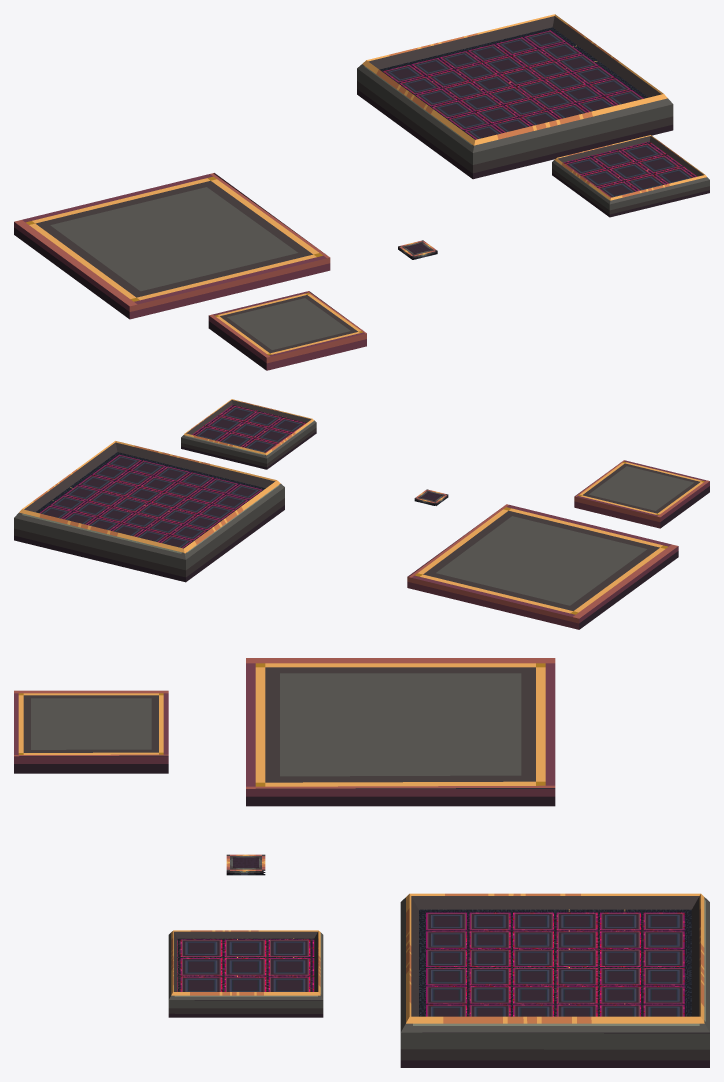
The model's file is musaic_tiles_model.gltf.
3 renders of one model, top to bottom at view 1: azimuth 30°, elevation 25°; view 2: azimuth 150°, elevation 25°; view 3: azimuth 270°, elevation 25°, orthographic. The views are drawn at different scales.
Parts seen in each view (by area): view 1: MESH_container_tile_2x2, MESH_normal_tile_2x2, MESH_container_tile_1x1, MESH_normal_tile_1x1; view 2: MESH_container_tile_2x2, MESH_normal_tile_2x2, MESH_container_tile_1x1, MESH_normal_tile_1x1, MESH_atom_tile; view 3: MESH_container_tile_2x2, MESH_normal_tile_2x2, MESH_container_tile_1x1, MESH_normal_tile_1x1, MESH_atom_tile.
Boxes of the visible parts, bbox=[...] form: MESH_container_tile_2x2: bbox=[357, 14, 673, 179]; MESH_normal_tile_2x2: bbox=[14, 173, 330, 319]; MESH_container_tile_1x1: bbox=[552, 135, 709, 217]; MESH_normal_tile_1x1: bbox=[208, 291, 366, 370]; MESH_container_tile_2x2: bbox=[14, 441, 284, 582]; MESH_normal_tile_2x2: bbox=[407, 504, 678, 629]; MESH_container_tile_1x1: bbox=[181, 399, 316, 469]; MESH_normal_tile_1x1: bbox=[574, 460, 709, 528]; MESH_atom_tile: bbox=[414, 489, 448, 505]; MESH_container_tile_2x2: bbox=[400, 893, 709, 1067]; MESH_normal_tile_2x2: bbox=[246, 658, 555, 806]; MESH_container_tile_1x1: bbox=[168, 930, 323, 1017]; MESH_normal_tile_1x1: bbox=[14, 690, 168, 773]; MESH_atom_tile: bbox=[226, 854, 265, 875].
Bounding box in the file's own units: 48 × 2.91 × 36.
3 materials, 3 textured.
